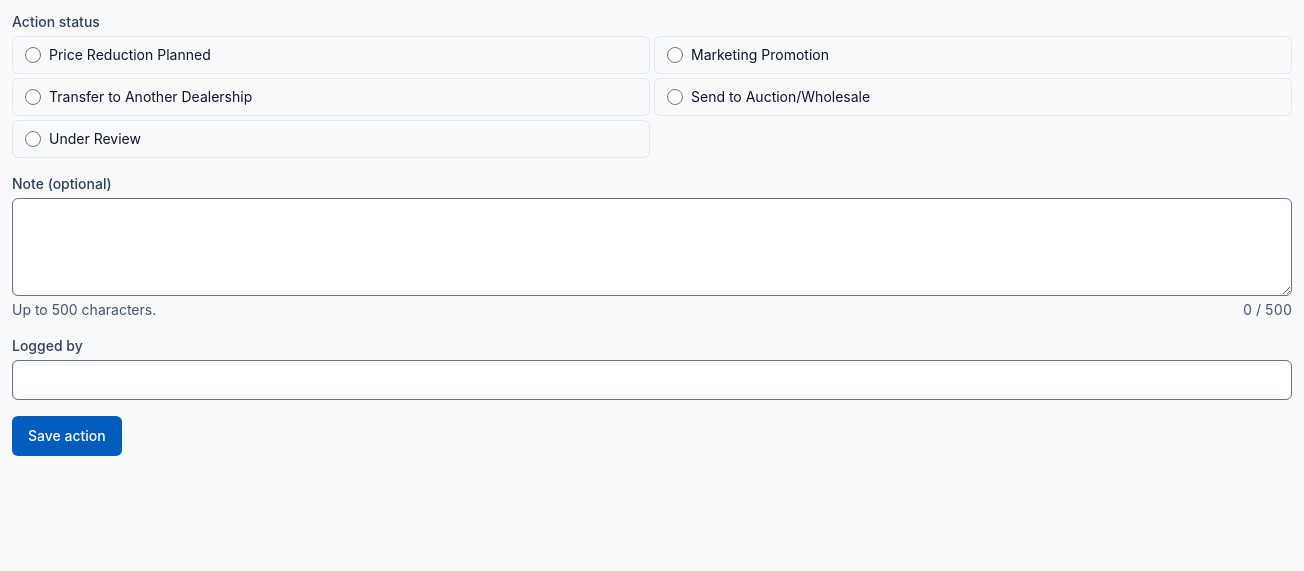
LogActionForm (T-031) › keeps every input after a failed save, focuses the alert, and retries from the keyboard (AC-006.7)
Click the radio button labelled "Price Reduction Planned" at (33, 55), box [25,47,41,63]
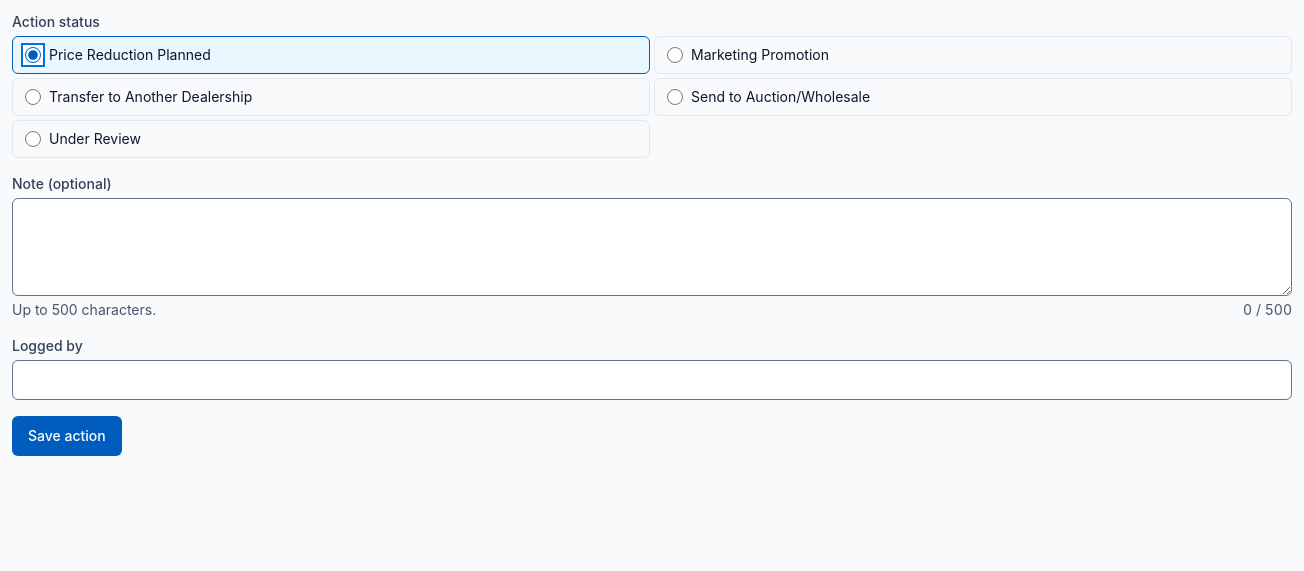
Type "Cut 5%" into the text box labelled "Note (optional)" at (652, 247), box [12,198,1292,296]
Type "Jane" into the field labelled "Logged by" at (652, 380), box [12,360,1292,400]
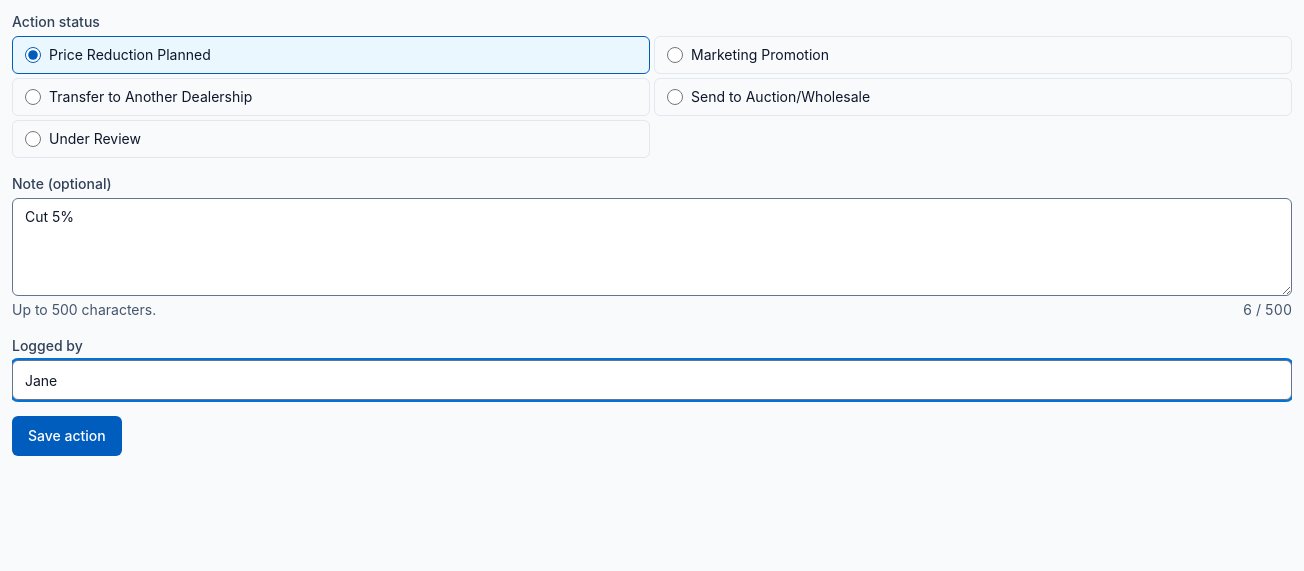
Press Tab
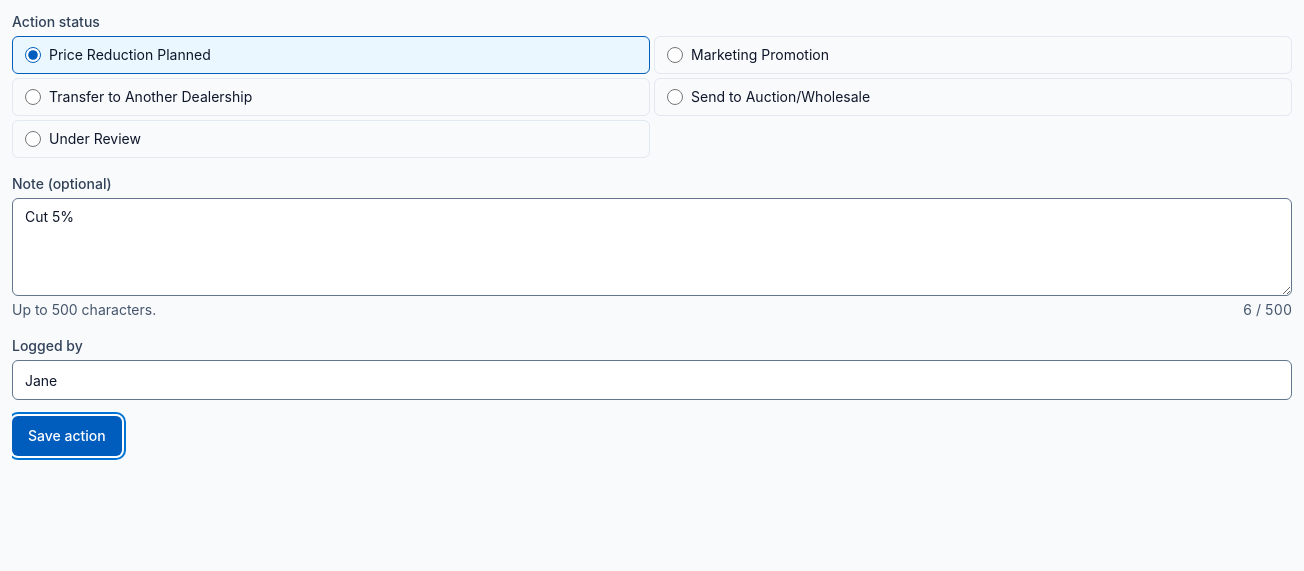
Press Enter
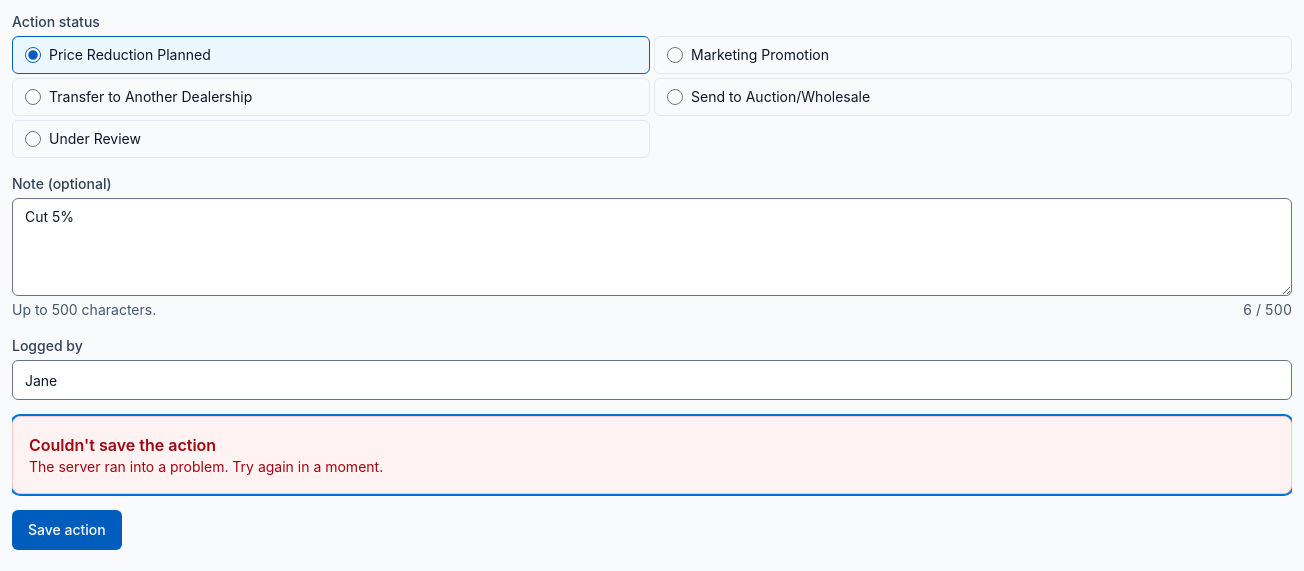
Check: the radio button labelled "Price Reduction Planned" is checked, box [25,47,41,63]
Check: the message shows "Couldn't save the action", box [29,435,216,455]
Check: the message shows "The server ran into a problem. Try again in a moment.", box [29,458,383,475]
# One Tab from the alert reaches Save.
Press Tab
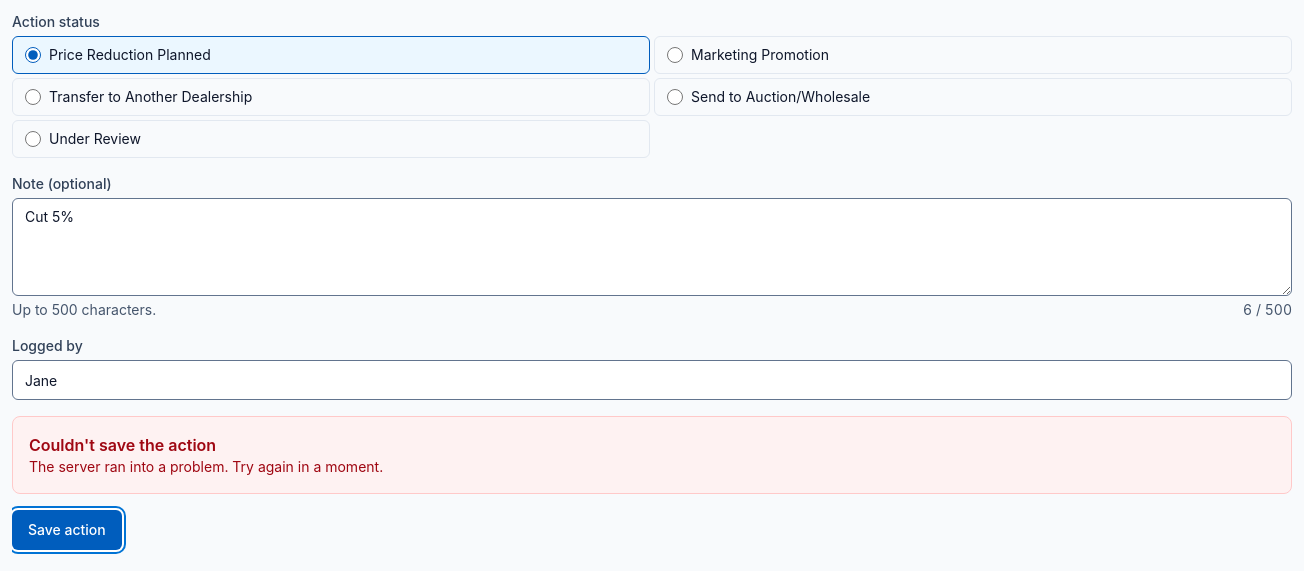
Press Enter
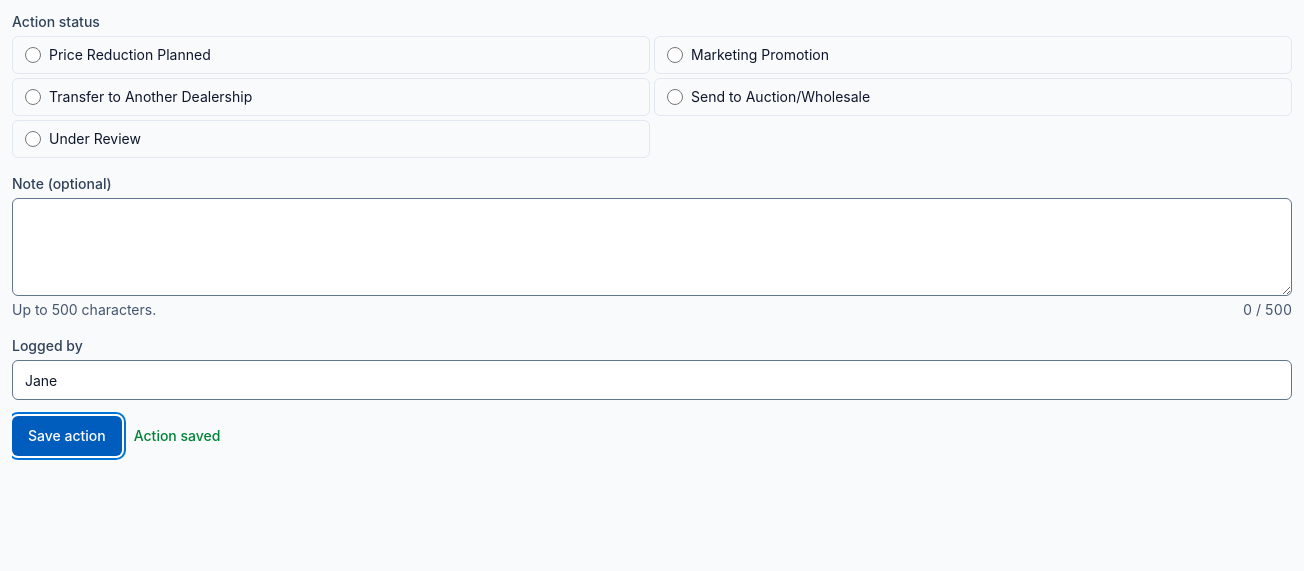
Check: the text "Action saved" is shown, box [134,426,220,446]
